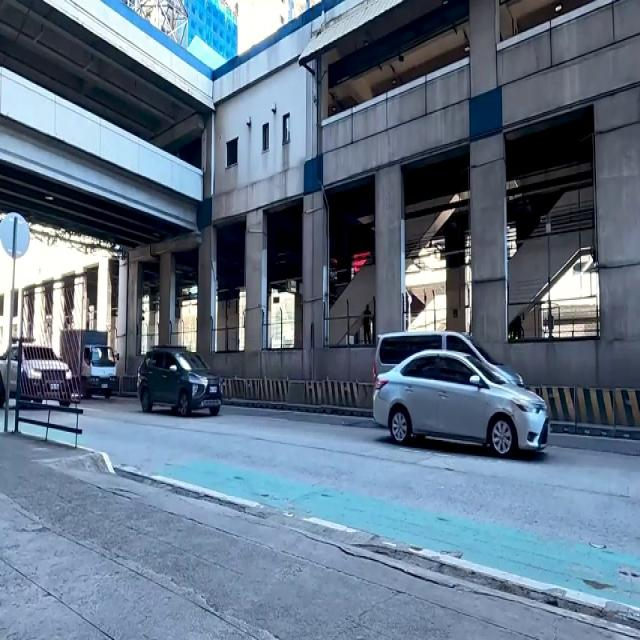car: (396, 358, 552, 460), (375, 328, 529, 427), (136, 342, 225, 420), (1, 347, 72, 407)
truck: (54, 326, 122, 403)
